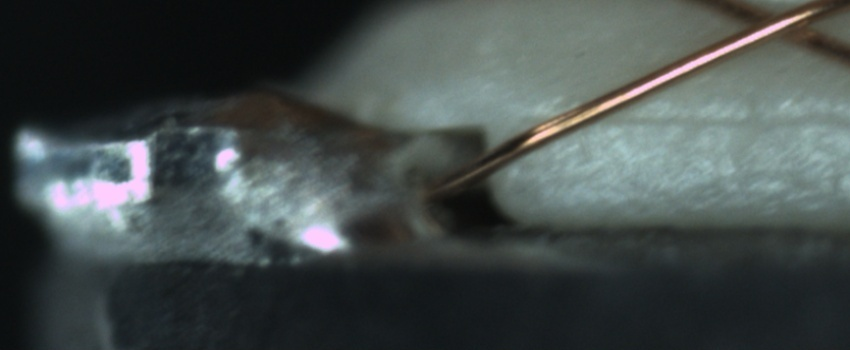CL: (703, 1, 841, 55)
DL: (552, 86, 847, 151)
